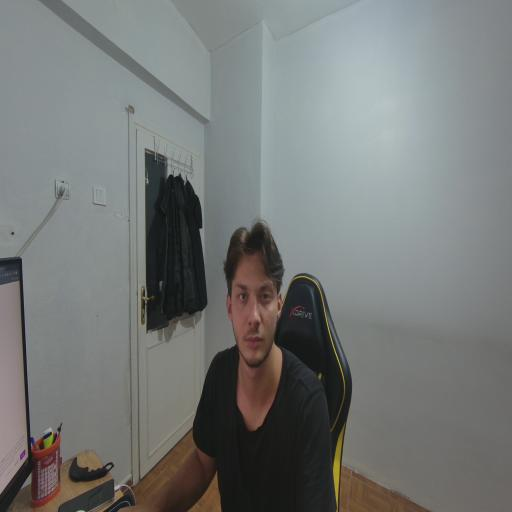cuma-face-v2: (214, 211, 286, 383)
